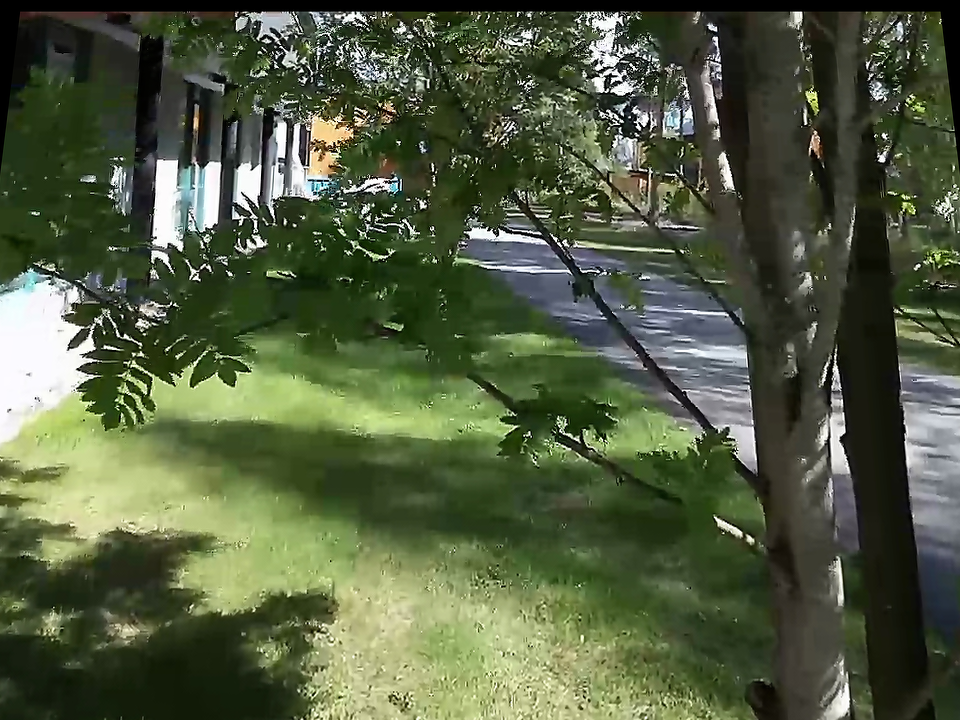branch: (481, 380, 641, 495), (623, 458, 774, 568), (421, 327, 544, 440), (664, 233, 750, 338)
trunk: (681, 14, 846, 365), (740, 324, 867, 705)
